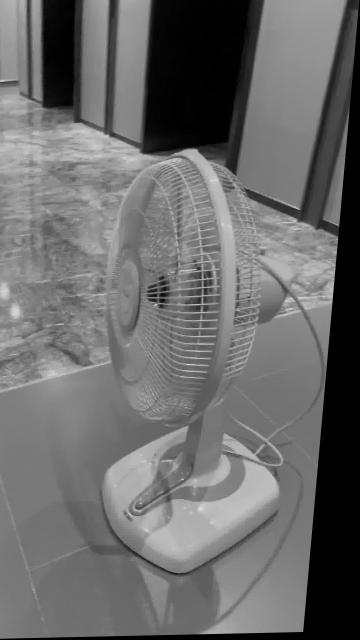Fan: (110, 150, 299, 577)
